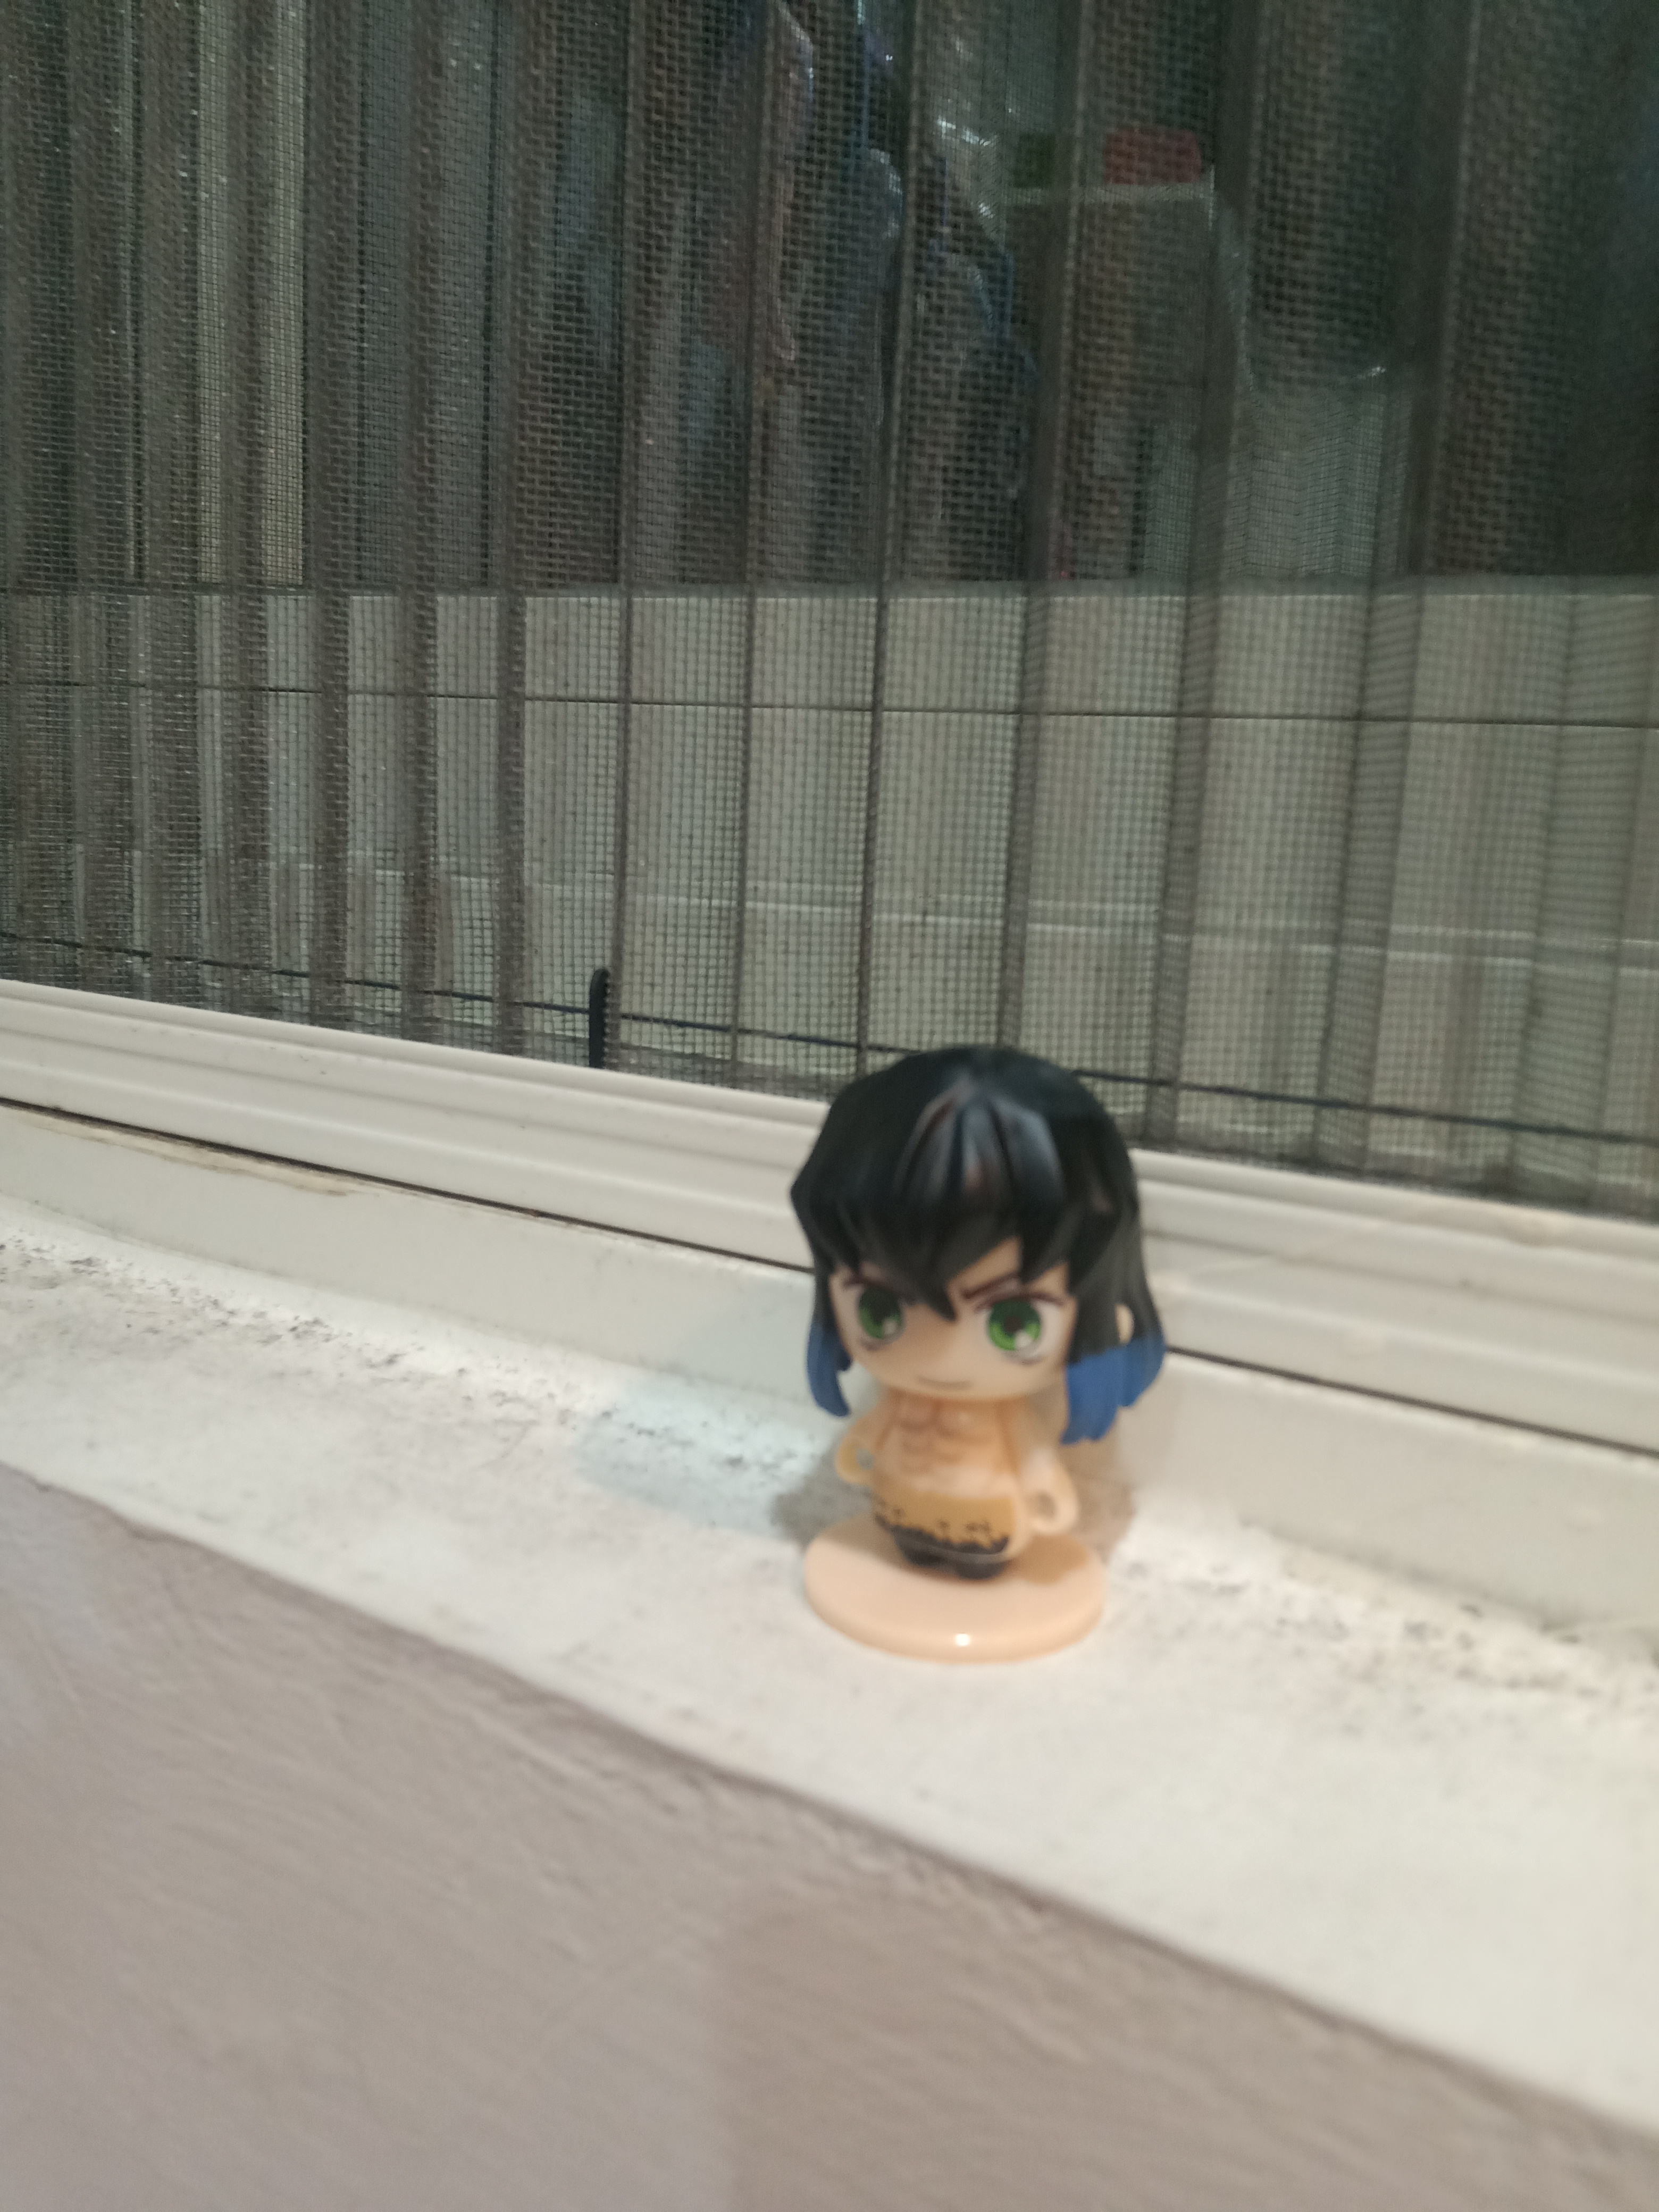Inosuke: (744, 1014, 1195, 1696)
